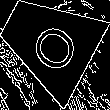O_NW: (18, 11, 78, 73)
